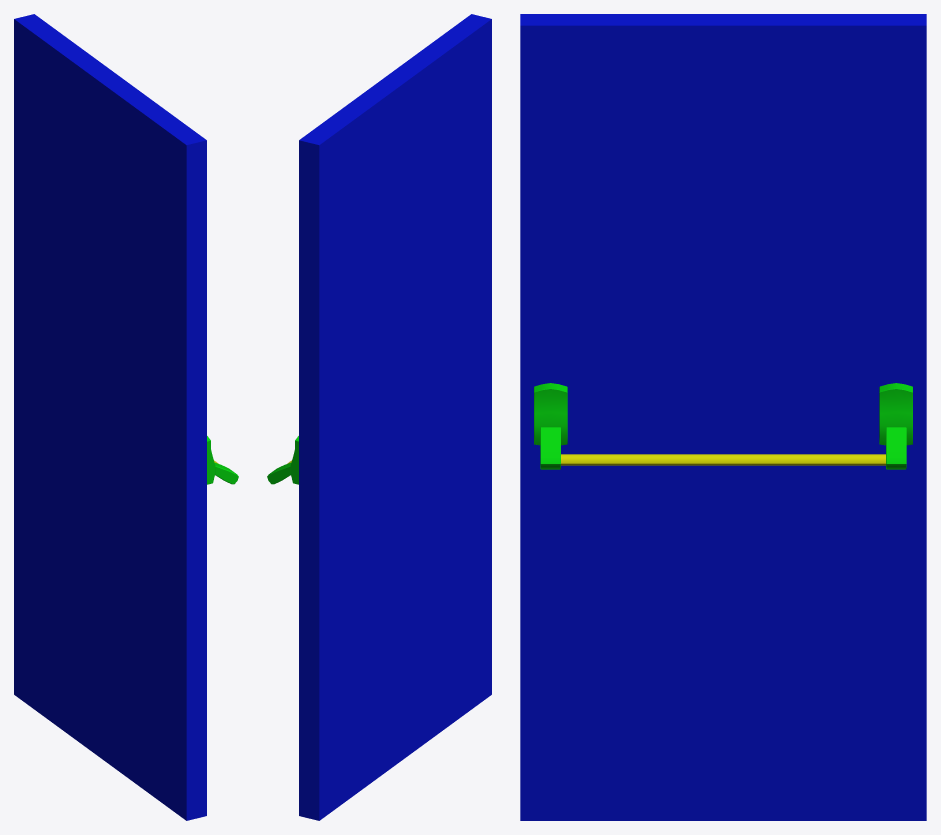
File: Exit Door.fbx
3 renders of one model, left to right at view 1: azimuth 30°, elevation 25°; view 2: azimuth 150°, elevation 25°; view 3: azimuth 270°, elevation 25°, orthographic. The views are drawn at different scales.
Parts seen in each view (by area): view 1: Cube.001; view 2: Cube.001; view 3: Cube.001.
Boxes of the visible parts, <box> form: Cube.001: <box>14,14,238,820</box>; Cube.001: <box>267,14,491,820</box>; Cube.001: <box>520,14,926,820</box>.
Bounding box in the file's own units: 19.73 × 208 × 96.44.
